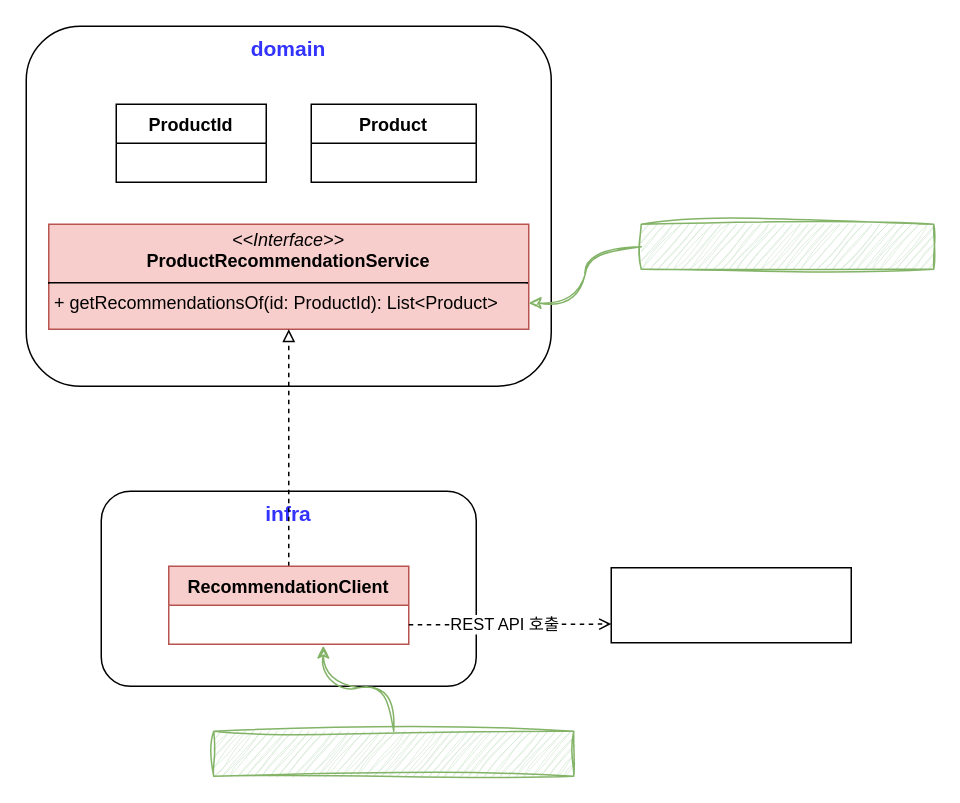
Image size: 960x803. Some labels were removed from this diagram. The shapes that lost their labels are listed below. From the top down, each one's centre as x and y in pixels, then its label:
[787,246]: 도메인 관점에서 인터페이스 정의
[730,604]: <<component>> 외부 추천 시스템
[393,753]: 도메인 모델과 외부 시스템 간의 모델 변환 처리
